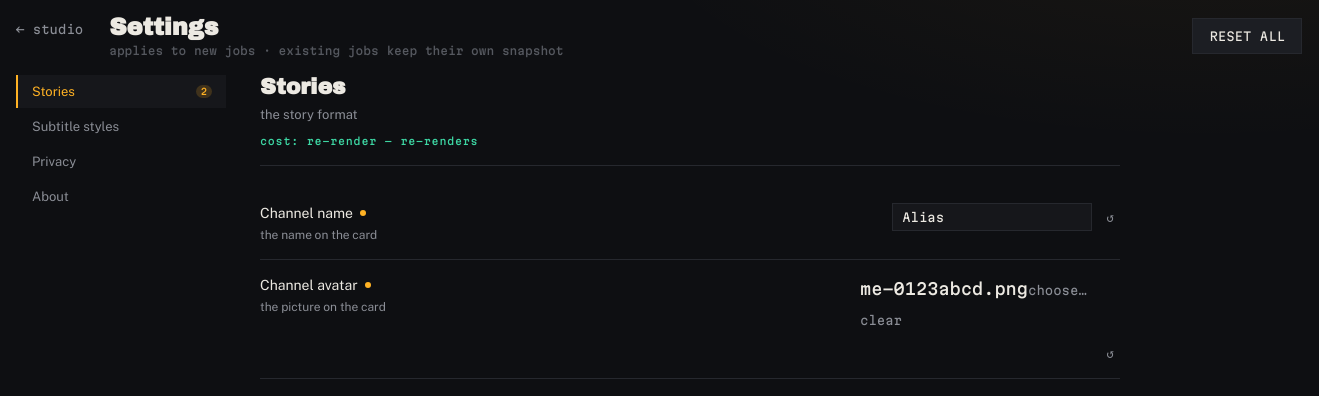
Test: the channel avatar is an image control in Settings (E20-F06) › names the stored file and clears it to none
Expected: the text "Channel avatar" is shown, [260,277,371,293]
Expected: the text "me-0123abcd.png" is shown, [860,279,1028,298]
Click the button "clear". click: (881, 320)
box: [860,305,902,335]
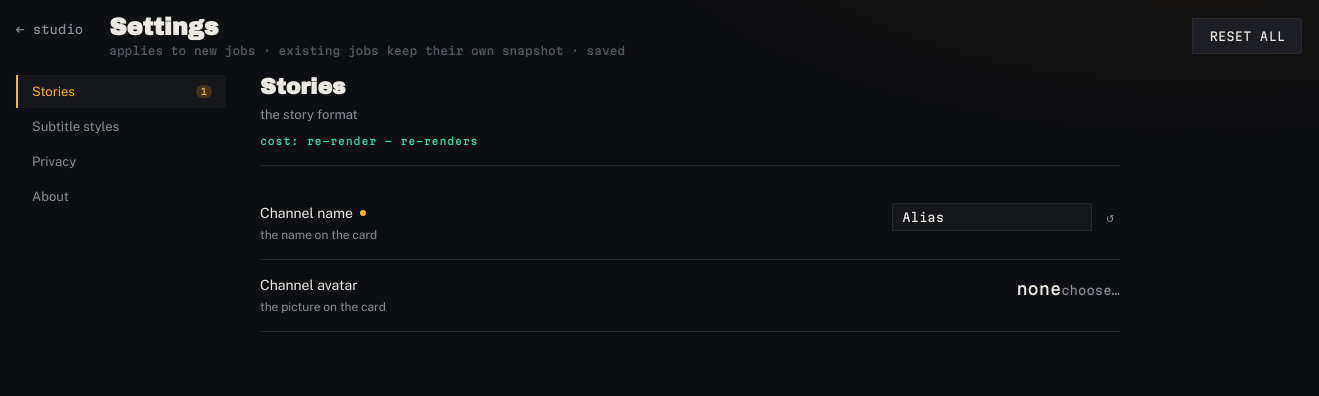
Result: the text "none" is shown at [1016,279,1061,298]
